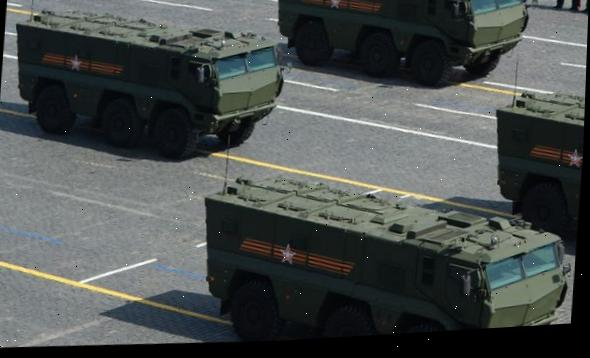armored_car: (191, 134, 584, 346), (5, 0, 292, 173), (268, 0, 534, 99), (485, 82, 586, 239)
